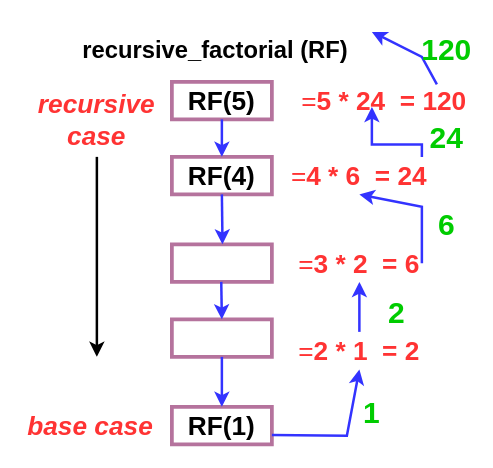
The diagram is 493 pixels wide and 468 high, and some of its shapes have lost their labels. The centre of each missing label's shape, as x and y in pixels:
RF(2): the point at 221,337
RF(3): the point at 221,262
